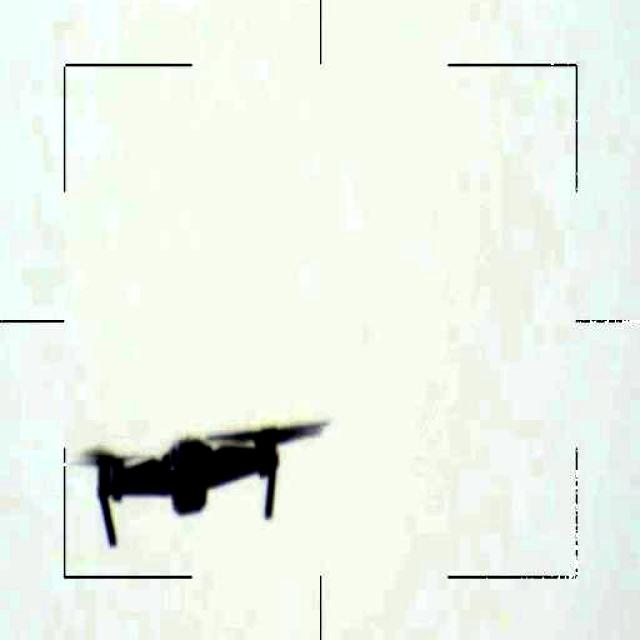bird: (65, 420, 325, 551)
